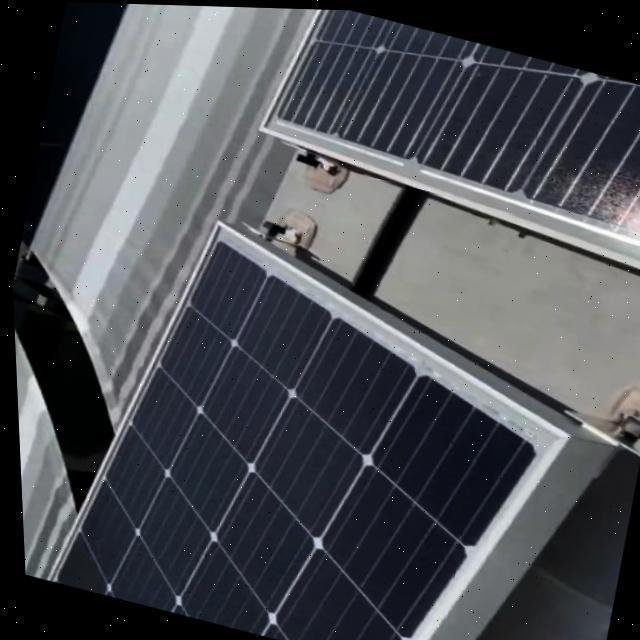Normal Solar Panel: (19, 192, 604, 640), (249, 6, 640, 268)
